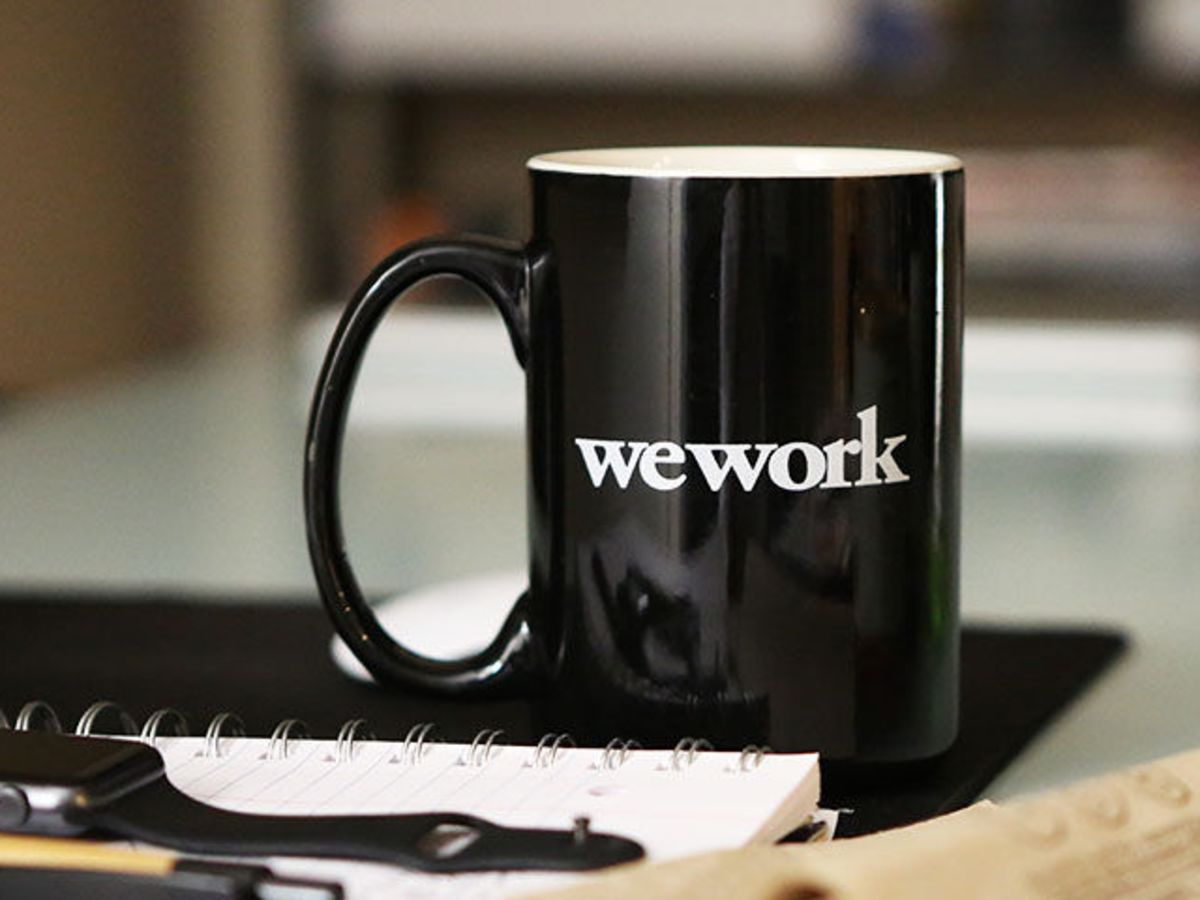wework: (572, 398, 915, 498)
